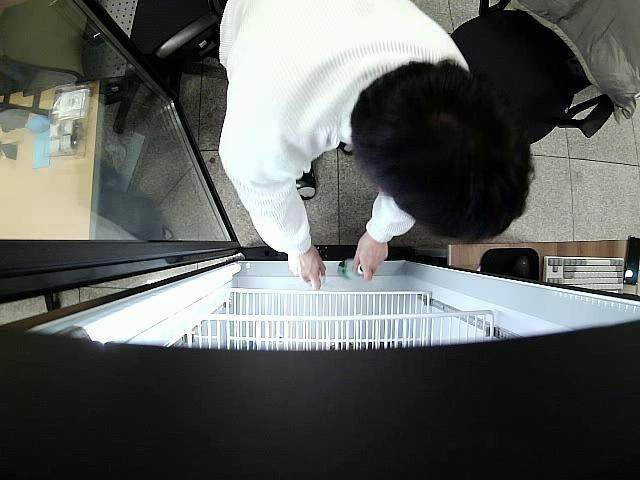18_trevi: (336, 262, 367, 282)
